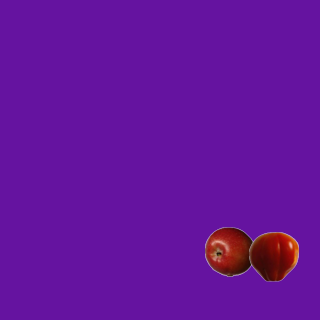Apple Braeburn: (204, 226, 254, 276)
Tomato 1: (248, 231, 298, 281)
